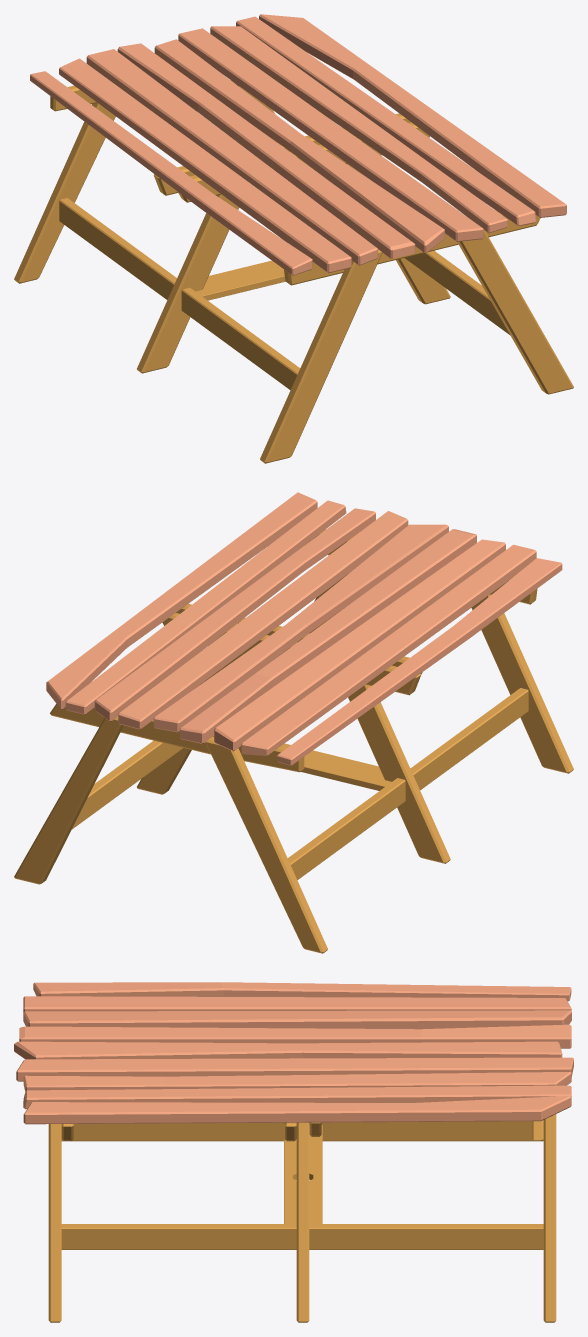
File: Picnik_Table_.fbx
3 renders of one model, top to bottom at view 1: azimuth 30°, elevation 25°; view 2: azimuth 150°, elevation 25°; view 3: azimuth 270°, elevation 25°, orthographic.
Parts seen in each view (by area): view 1: Table.001, TableStand.002; view 2: Table.001, TableStand.002; view 3: Table.001, TableStand.002.
Boxes of the visible parts, x1,y1,x2,y2 form: Table.001: [30, 14, 566, 275]; TableStand.002: [14, 80, 573, 463]; Table.001: [46, 492, 562, 765]; TableStand.002: [14, 529, 573, 953]; Table.001: [14, 982, 573, 1124]; TableStand.002: [48, 1114, 556, 1322].
Bounding box in the file's own units: 524 × 329 × 815.
